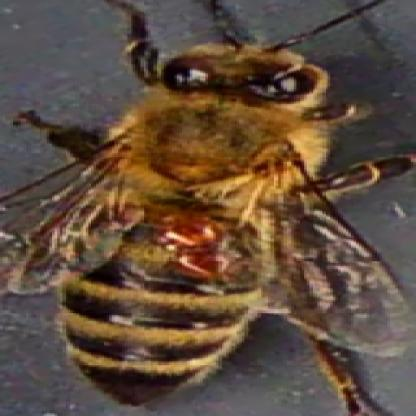bee: (77, 33, 290, 399)
vaoora: (182, 250, 237, 280), (162, 219, 218, 243)
